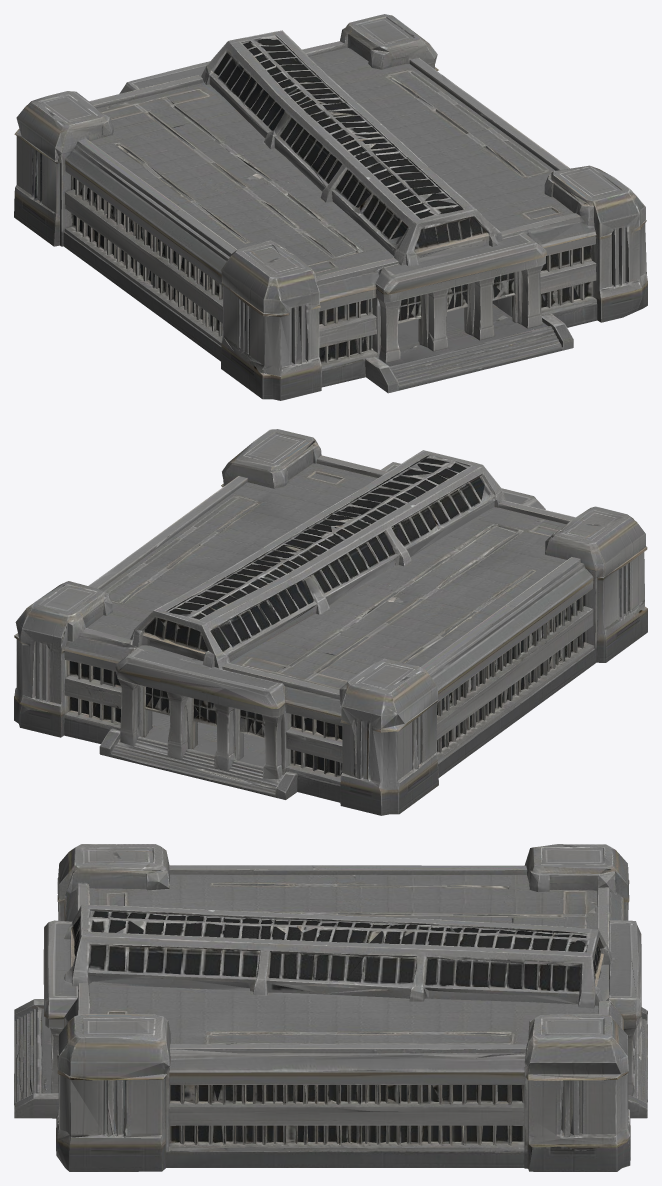
File: imperial_stock_exchange_lod1.glb
3 renders of one model, top to bottom at view 1: azimuth 30°, elevation 25°; view 2: azimuth 150°, elevation 25°; view 3: azimuth 270°, elevation 25°, orthographic. The views are drawn at different scales.
Parts seen in each view (by area): view 1: mesh_node; view 2: mesh_node; view 3: mesh_node.
Boxes of the visible parts, left/top/right/bottom form: mesh_node: left=14, top=14, right=647, bottom=400; mesh_node: left=14, top=429, right=647, bottom=815; mesh_node: left=14, top=844, right=647, bottom=1171.
Size of the model in its own units: 28.44 by 9.44 by 36.79.
Materials: 1 (1 with a texture image).
